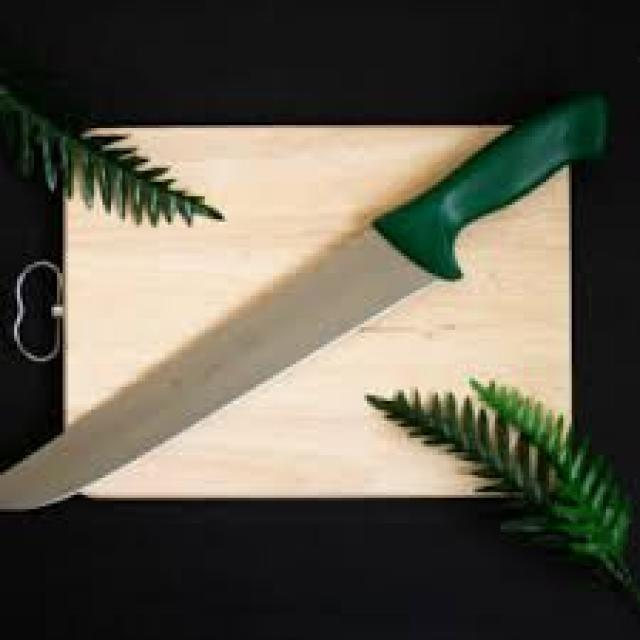knife: (16, 54, 624, 527)
